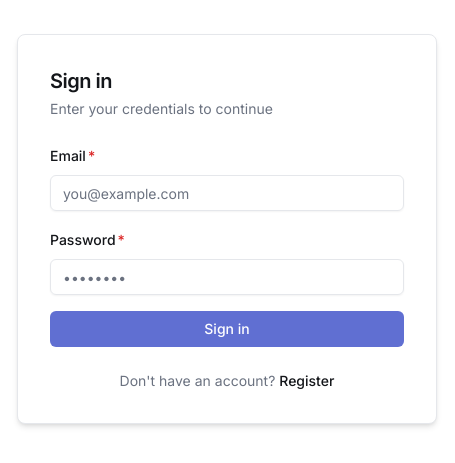
LoginPage › shows a server error message on 401
Type "test@example.com" into the field labelled "Email*" at (227,193), box [50,175,404,211]
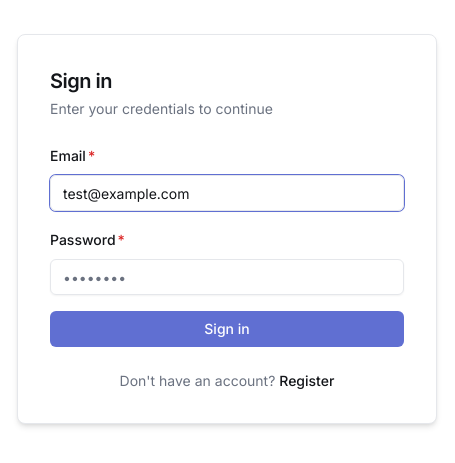
Type "wrongpassword" into the password field labelled "Password*" at (227,277), box [50,259,404,295]
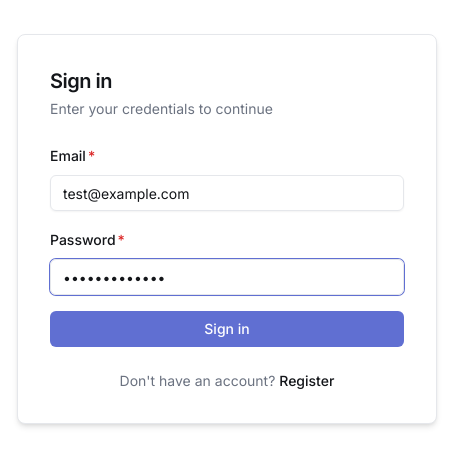
Click the button "Sign in" at (227,329), box [50,311,404,347]
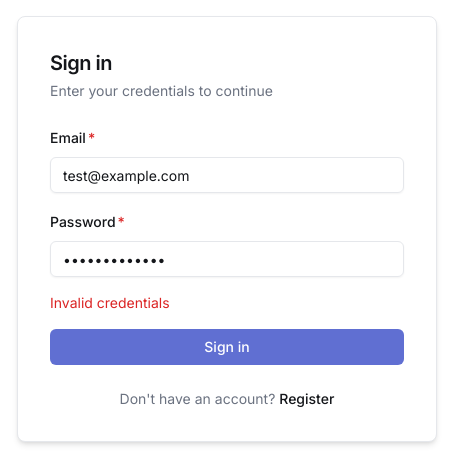
Now the text "Invalid credentials" is shown, box [50,294,170,311]
